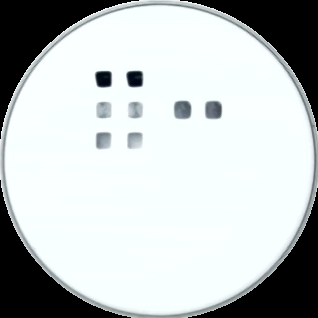检查点: (126, 128, 146, 153), (94, 129, 113, 152), (203, 99, 223, 120), (174, 99, 192, 120), (126, 70, 145, 89), (126, 101, 146, 119), (94, 70, 113, 88), (96, 100, 113, 120)
